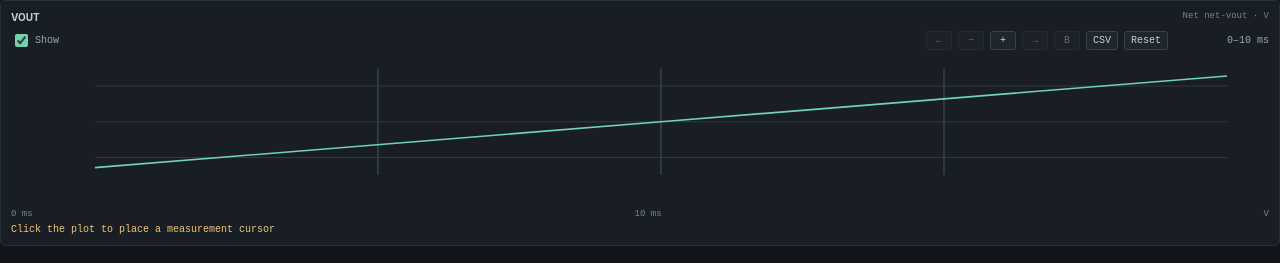
it: waveform viewer › reports a time and interpolated signal value at the measurement cursor
Click the picture named "VOUT waveform" at [640, 130], box [11,57,1269,202]
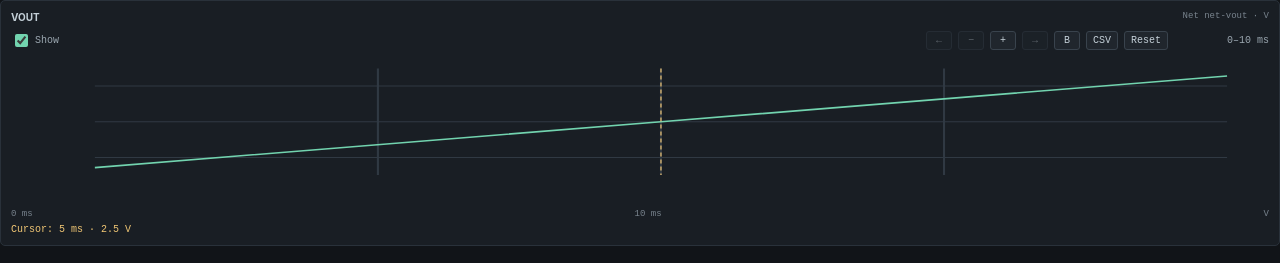
Now the text "Cursor: 5 ms · 2.5 V" is shown, box [11,224,131,235]
